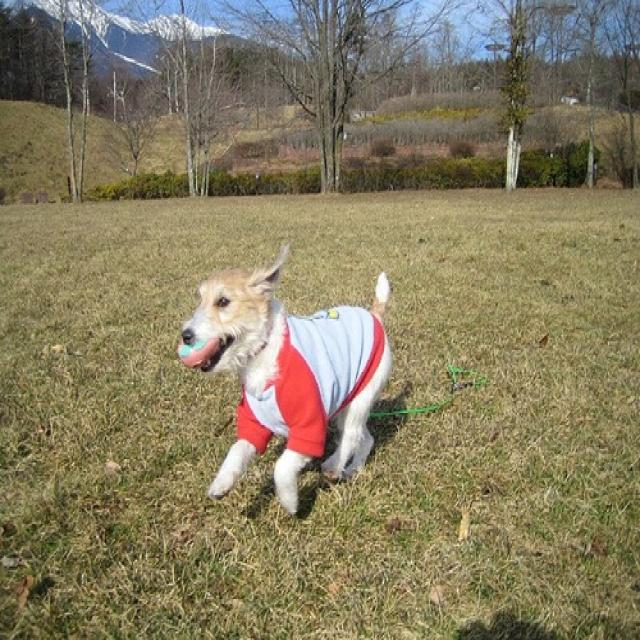dog: (176, 241, 392, 517)
